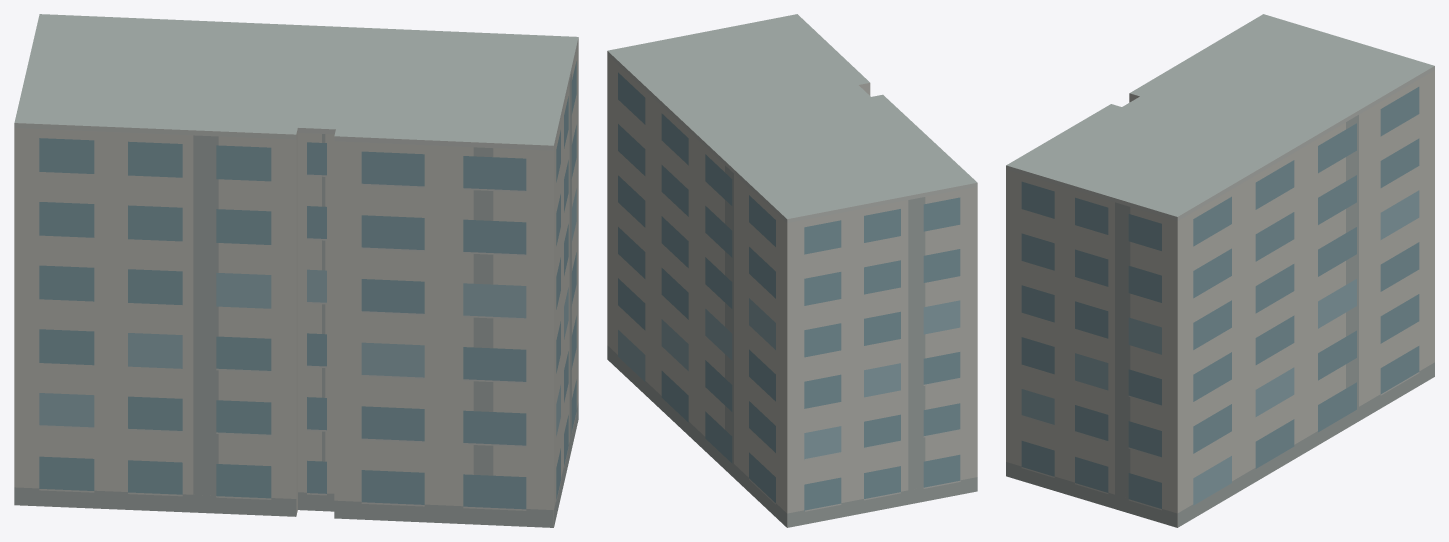
File: survey-upis-32552461.glb
3 views of the same model, side by side, from view 1: azimuth 30°, elevation 25°; view 2: azimuth 150°, elevation 25°; view 3: azimuth 270°, elevation 25° (orthographic). The views are drawn at different scales.
Visible parts, largest first — view 1: survey-upis-32552461.tmp; view 2: survey-upis-32552461.tmp; view 3: survey-upis-32552461.tmp.
Part boxes in pixels (box(x1,y1,x2,y2)): survey-upis-32552461.tmp: box(14, 14, 578, 527); survey-upis-32552461.tmp: box(607, 14, 977, 527); survey-upis-32552461.tmp: box(1006, 14, 1434, 527).
Size of the model in its own units: 25.63 by 18.3 by 22.88.
